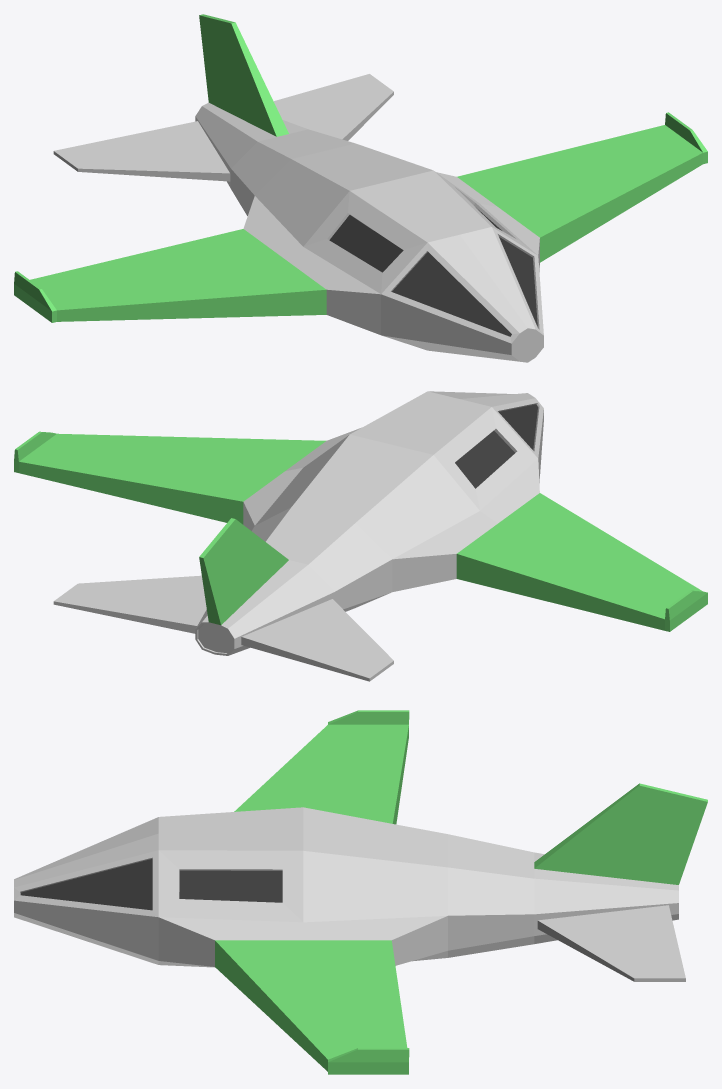
The model's file is ship_14.fbx.
The picture shows the model from 3 angles, top to bottom: view 1: azimuth 30°, elevation 25°; view 2: azimuth 150°, elevation 25°; view 3: azimuth 270°, elevation 25°; orthographic projection. The views are drawn at different scales.
Visible parts, largest first — view 1: ship14; view 2: ship14; view 3: ship14.
Boxes of the visible parts, <box> form: ship14: <box>14,14,707,362</box>; ship14: <box>14,391,707,681</box>; ship14: <box>14,710,707,1074</box>.
Size of the model in its own units: 935 by 212 by 806.
